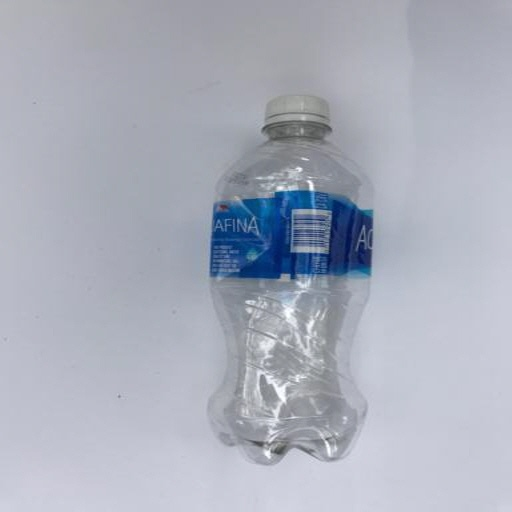Plastic_0: (208, 92, 370, 466)
